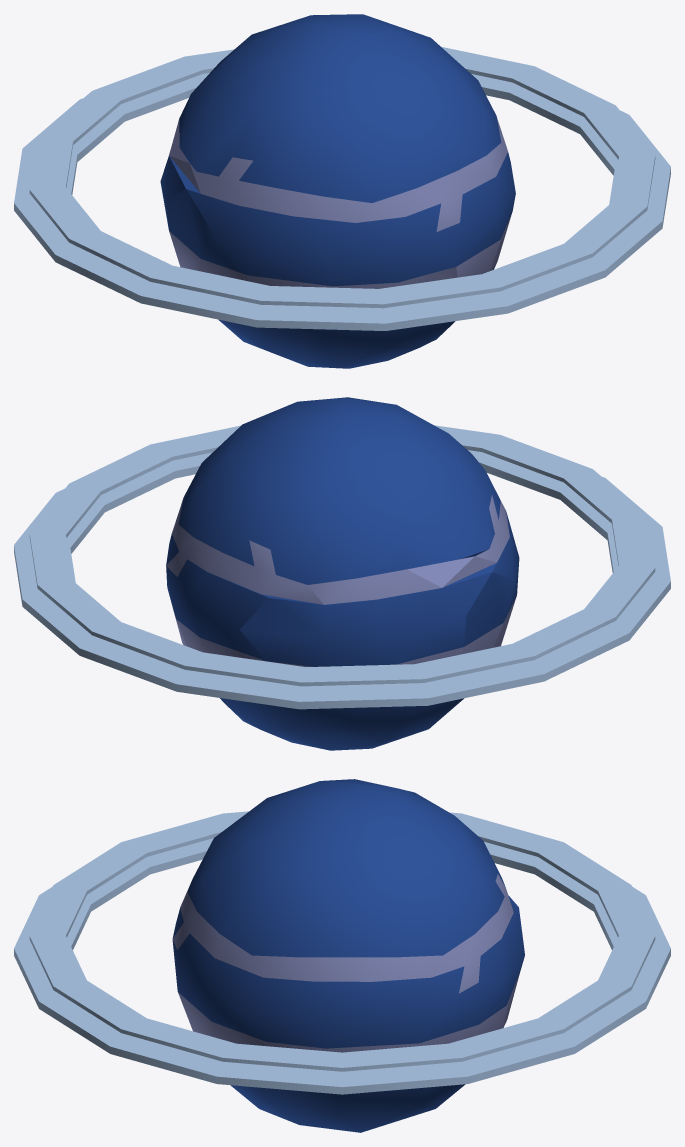
Rendered from planet-12.glb.
3 renders of one model, top to bottom at view 1: azimuth 30°, elevation 25°; view 2: azimuth 150°, elevation 25°; view 3: azimuth 270°, elevation 25°, orthographic.
Parts seen in each view (by area): view 1: Toy_Planet_9_Rings_Toy_Planets_0; view 2: Toy_Planet_9_Rings_Toy_Planets_0; view 3: Toy_Planet_9_Rings_Toy_Planets_0.
Part boxes in pixels (<box>): Toy_Planet_9_Rings_Toy_Planets_0: <box>14,14,670,368</box>; Toy_Planet_9_Rings_Toy_Planets_0: <box>14,397,670,750</box>; Toy_Planet_9_Rings_Toy_Planets_0: <box>14,779,670,1132</box>.
Size of the model in its own units: 3.74 by 2.04 by 3.74.
1 material, 1 textured.
